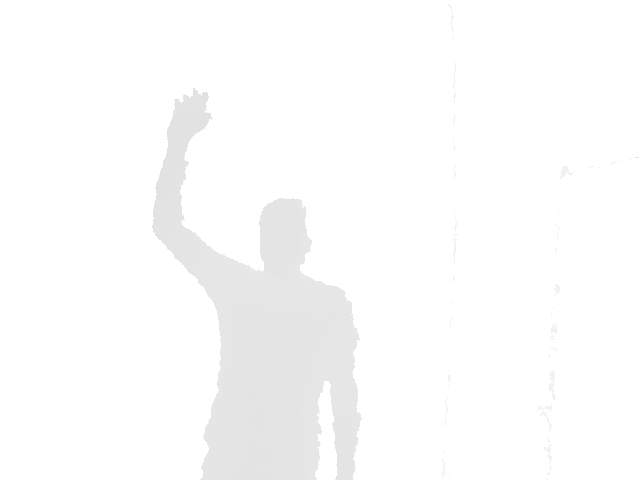hand: (165, 87, 213, 147)
head: (258, 197, 312, 276)
person: (151, 87, 363, 480)
